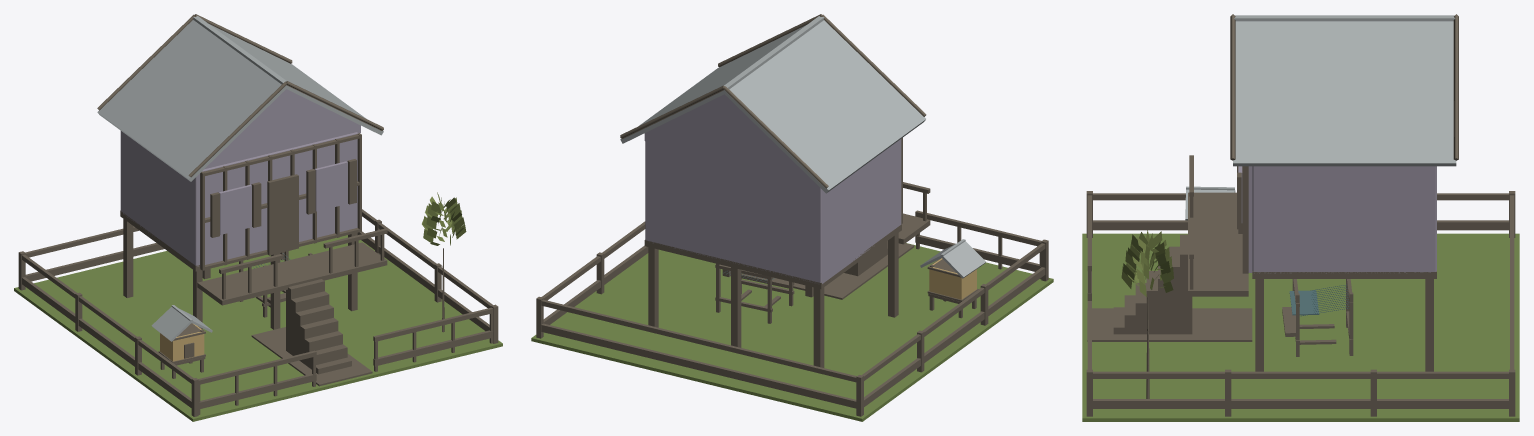
The model's file is res.house_0_1@northeast.gltf.
3 renders of one model, left to right at view 1: azimuth 30°, elevation 25°; view 2: azimuth 150°, elevation 25°; view 3: azimuth 270°, elevation 25°, orthographic. The views are drawn at different scales.
Visible parts, largest first — view 1: res.house_0_1/wood_painted#6f6659, res.house_0_1/grass, res.house_0_1/wood_painted#a29baa, res.house_0_1/roof_metal_corrugated#aab0b1, res.house_0_1/foliage_tropical#758348, res.house_0_1/bamboo_split#c7ac75; view 2: res.house_0_1/grass, res.house_0_1/wood_painted#a29baa, res.house_0_1/wood_painted#6f6659, res.house_0_1/roof_metal_corrugated#aab0b1, res.house_0_1/bamboo_split#c7ac75; view 3: res.house_0_1/grass, res.house_0_1/wood_painted#6f6659, res.house_0_1/roof_metal_corrugated#aab0b1, res.house_0_1/wood_painted#a29baa, res.house_0_1/foliage_tropical#758348, res.house_0_1/fabric_canvas#58777a.
Boxes of the visible parts, x1,y1,x2,y2 form: res.house_0_1/wood_painted#6f6659: (18,14,498,416); res.house_0_1/grass: (14,235,502,421); res.house_0_1/wood_painted#a29baa: (120,89,360,267); res.house_0_1/roof_metal_corrugated#aab0b1: (97,16,383,341); res.house_0_1/foliage_tropical#758348: (422,192,466,245); res.house_0_1/bamboo_split#c7ac75: (160,323,204,361); res.house_0_1/grass: (531,243,1053,421); res.house_0_1/wood_painted#a29baa: (644,94,901,283); res.house_0_1/wood_painted#6f6659: (536,14,1048,416); res.house_0_1/roof_metal_corrugated#aab0b1: (620,16,985,278); res.house_0_1/bamboo_split#c7ac75: (929,258,976,299); res.house_0_1/grass: (1082,233,1519,421); res.house_0_1/wood_painted#6f6659: (1086,14,1515,416); res.house_0_1/roof_metal_corrugated#aab0b1: (1185,15,1456,220); res.house_0_1/wood_painted#a29baa: (1238,166,1436,273); res.house_0_1/foliage_tropical#758348: (1121,230,1173,296); res.house_0_1/fabric_canvas#58777a: (1289,284,1349,316).
Size of the model in its own units: 9 by 7.16 by 9.
